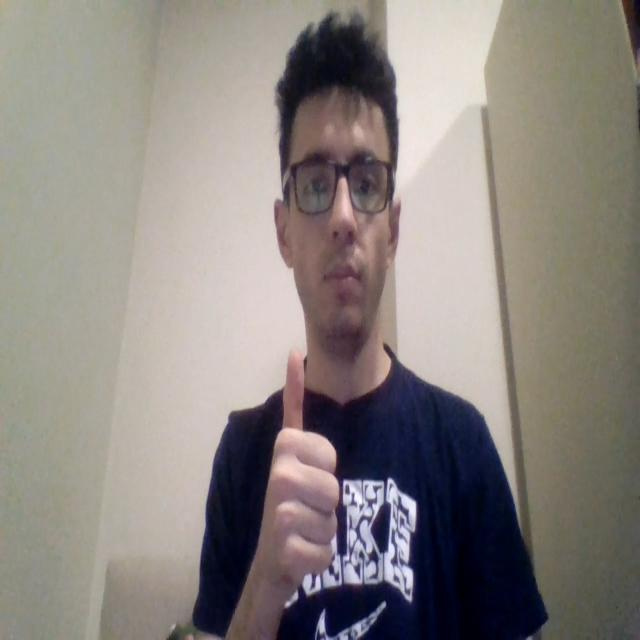help: (260, 353, 339, 574)
